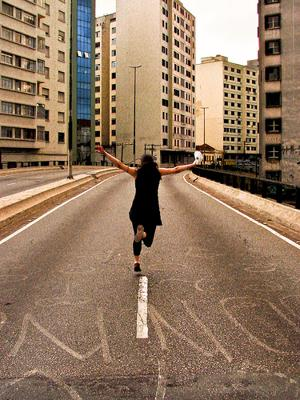person: (95, 142, 204, 281)
